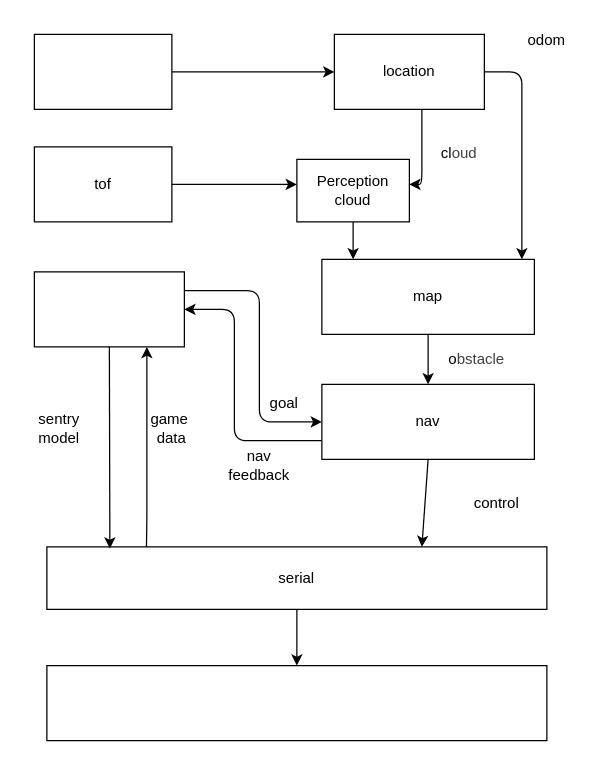
This 605x763 diagram has some shape labels left out. The shapes that lost their labels are listed below. From the top down, each one's box as (x1, y1, x2, y2) in pixels, then its label:
(33, 33, 172, 109): mid360
(33, 271, 184, 347): decision
(46, 664, 547, 741): 下位机
